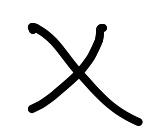mult: (26, 22, 143, 127)
